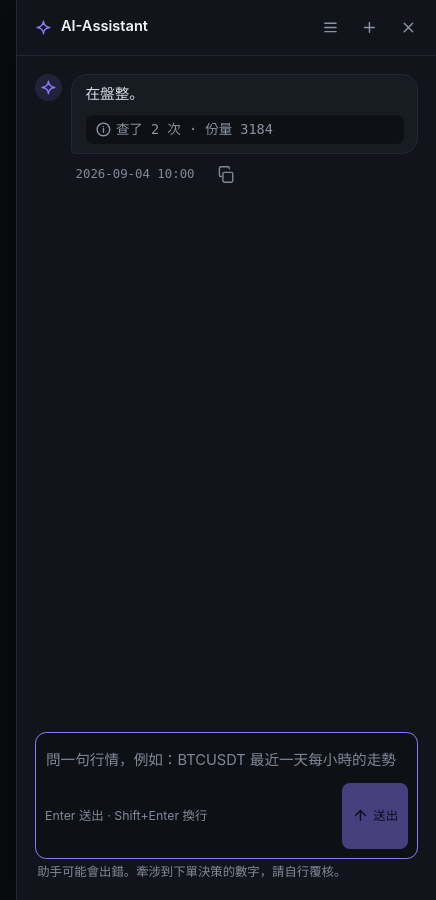
Test: AssistantDrawer 在抽屜裡換對話 › 歷史那一層蓋掉對話與輸入框
Click the button with test id "assistant-drawer-history-toggle". click: (330, 27)
box: left=312, top=9, right=349, bottom=46
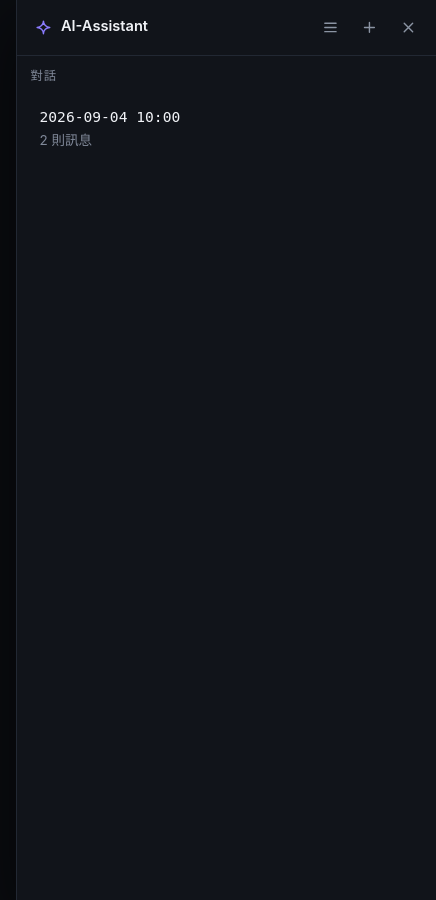
Check: the button with test id "assistant-list-item-7" is shown, box left=26, top=97, right=427, bottom=159
